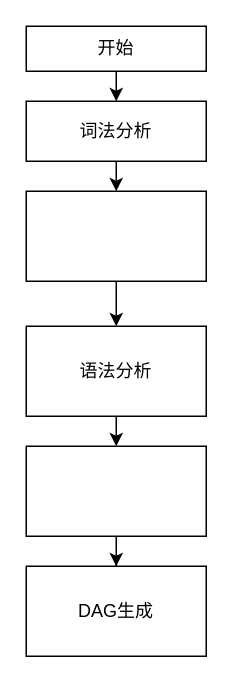
Image size: 233x683. Some labels were removed from this diagram. Each missing label, with the box of its shape:
构建AST: (25, 445, 206, 536)
生成token流: (25, 190, 206, 281)
